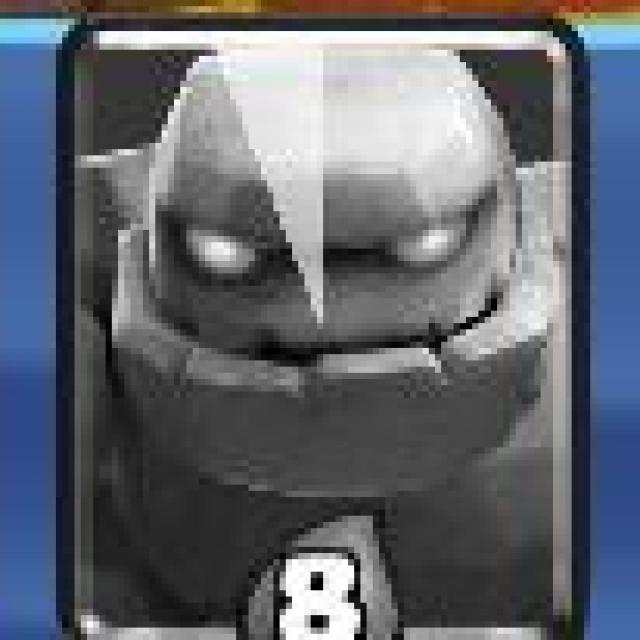Golem: (63, 20, 587, 640)
